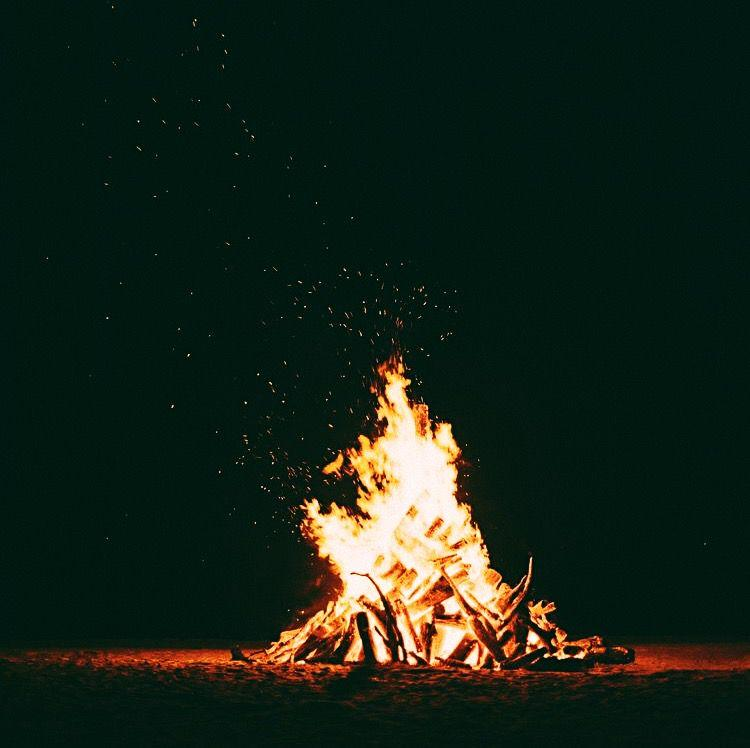Fire: (258, 351, 564, 673)
